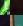glowstick: (0, 0, 10, 15)
